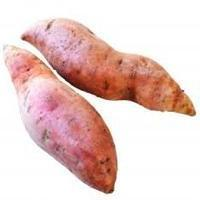biodegradable: (19, 16, 197, 117), (3, 42, 118, 195)
